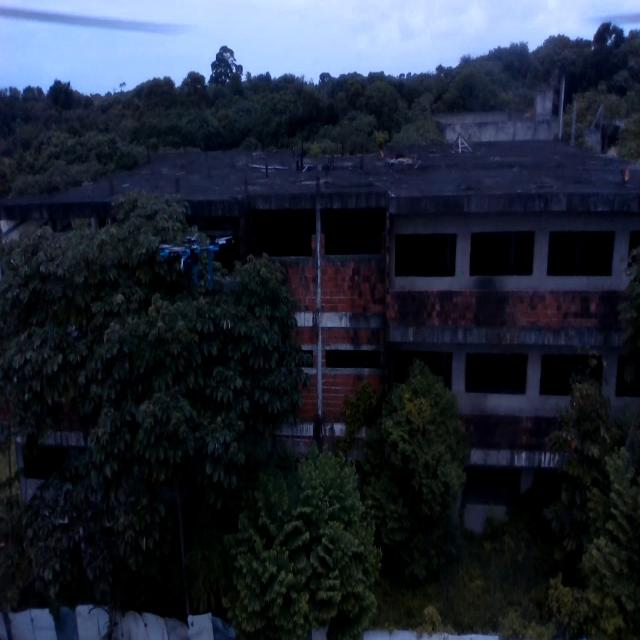-uav-: (151, 210, 244, 307)
